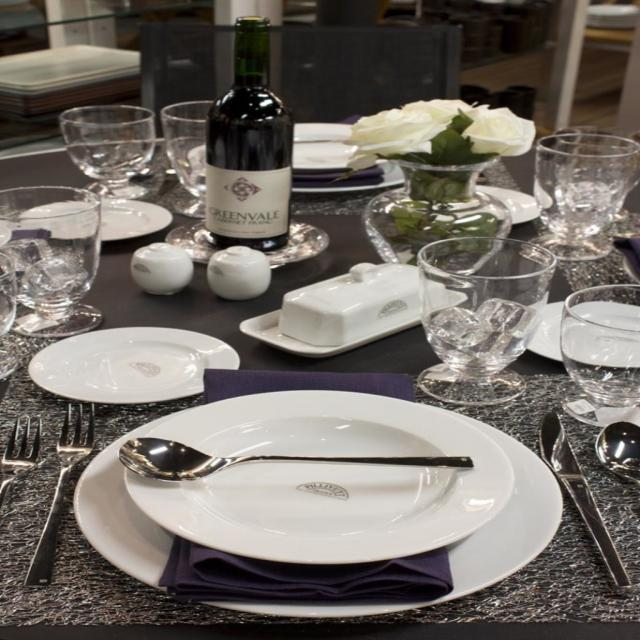ceramic plate: (80, 386, 572, 616)
